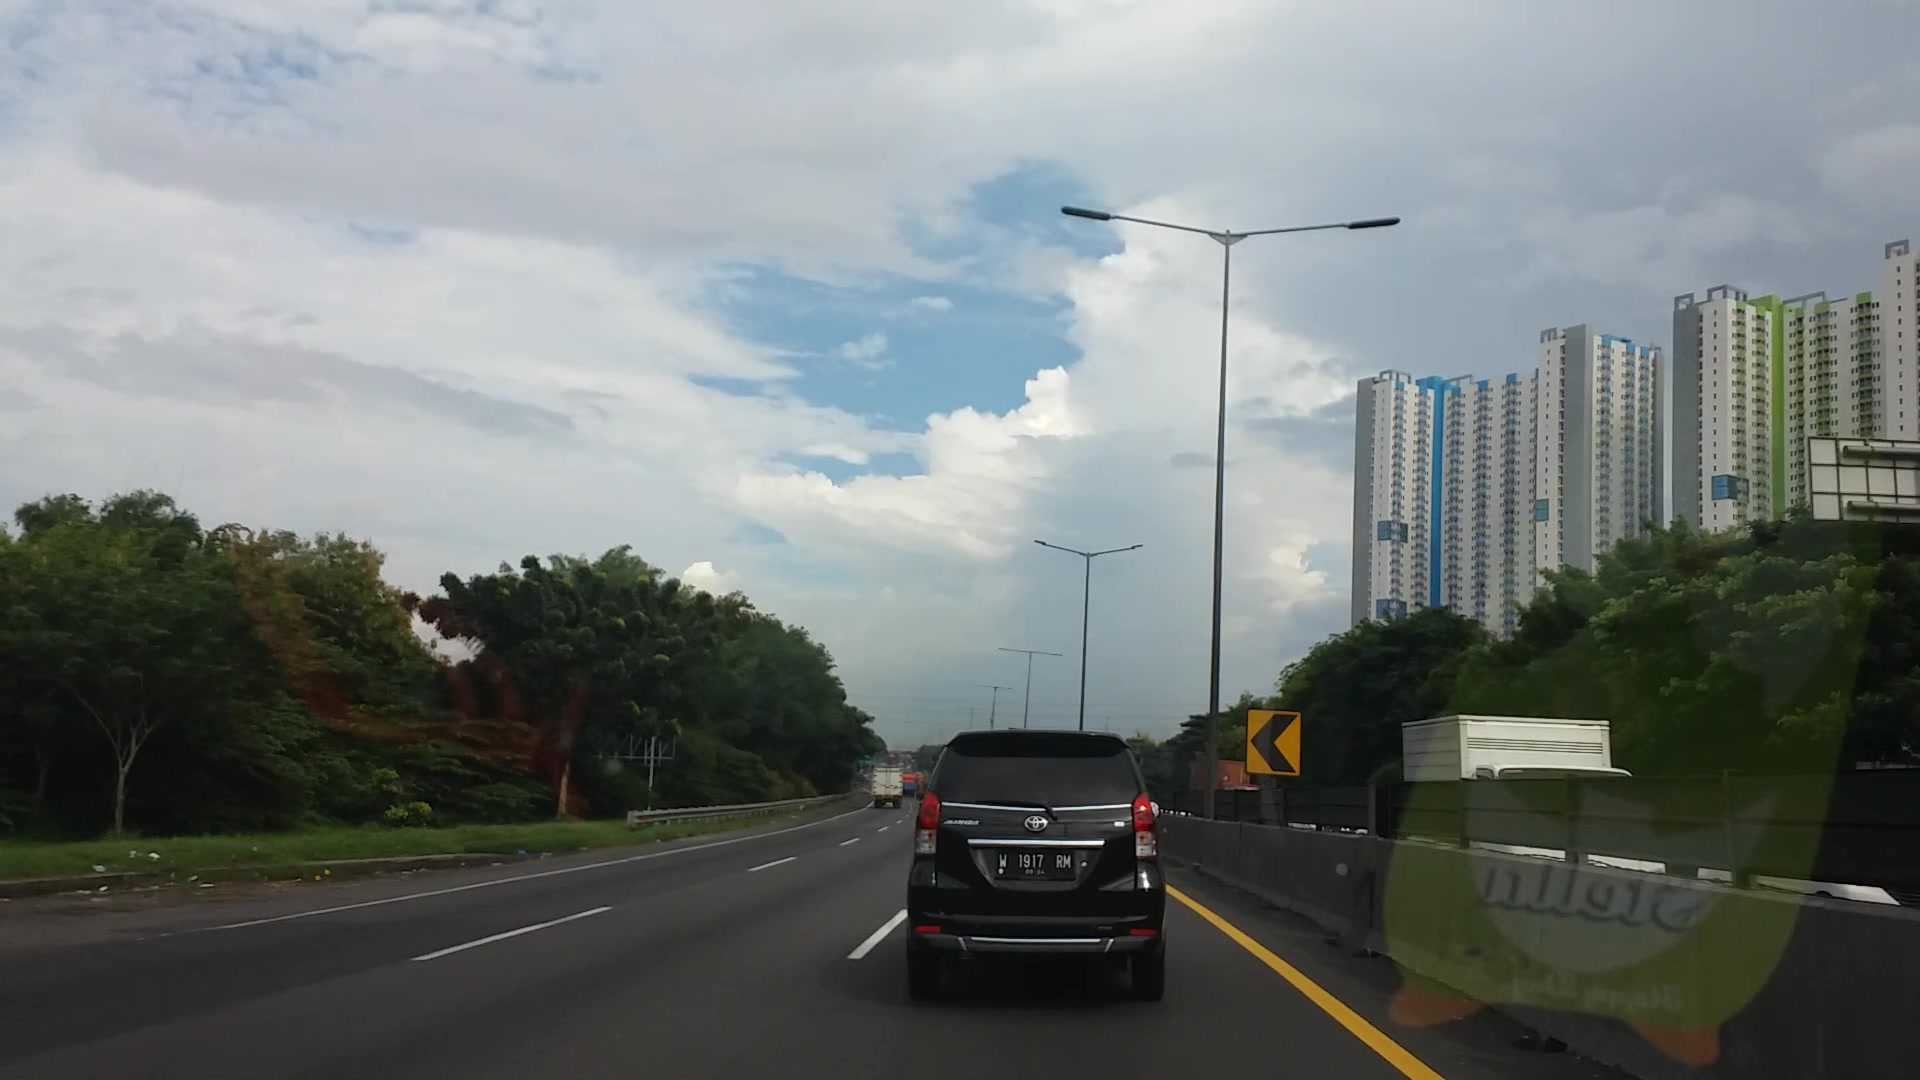plate_positive: (994, 851, 1072, 877)
